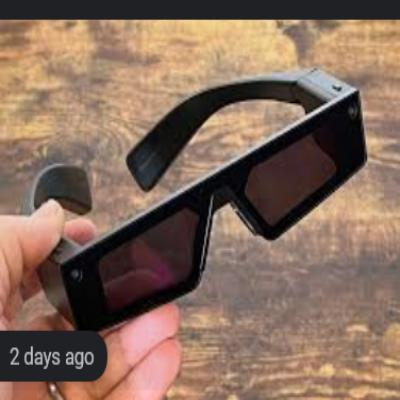glasses: (23, 68, 373, 335)
